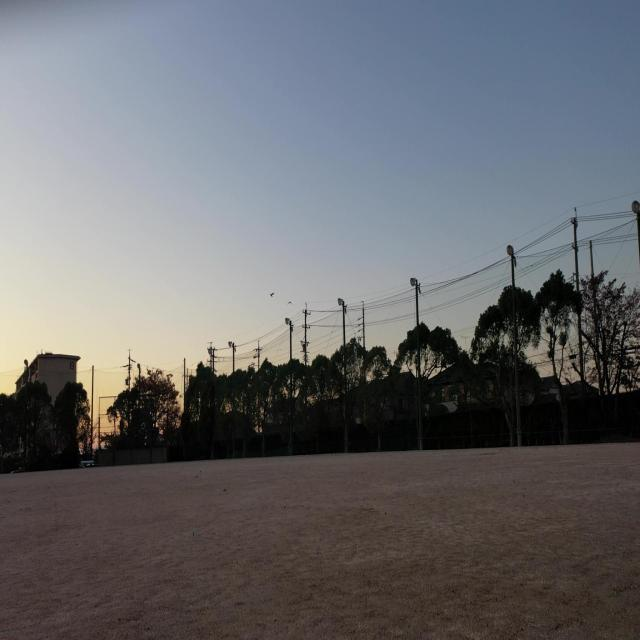Birds: (268, 291, 276, 298), (286, 300, 294, 306)
